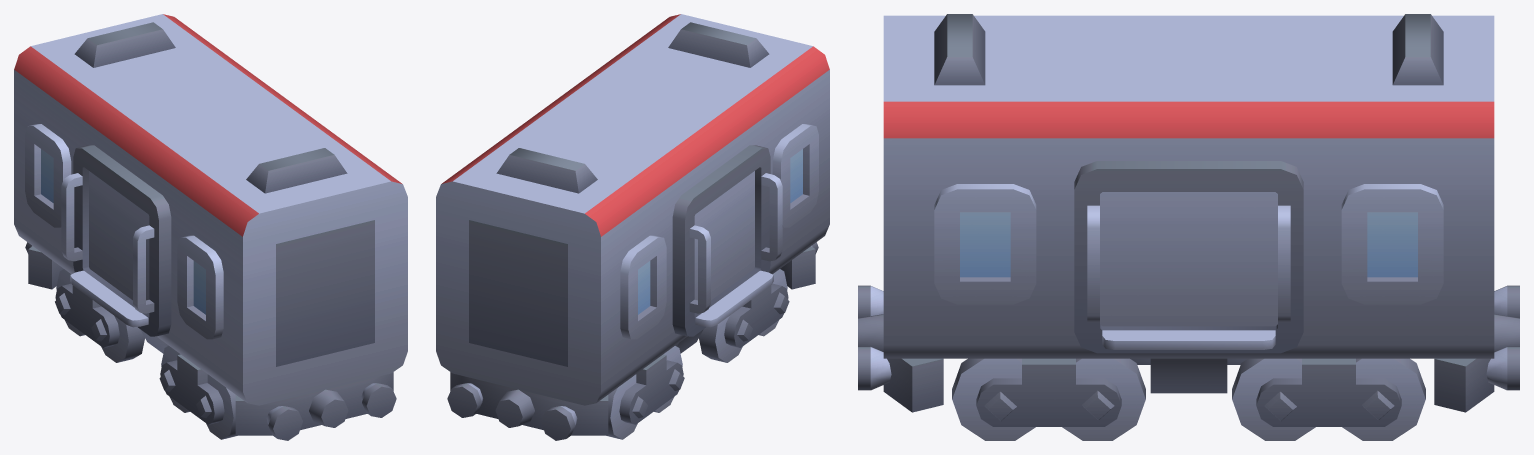
Rendered from train.glb.
3 renders of one model, left to right at view 1: azimuth 30°, elevation 25°; view 2: azimuth 150°, elevation 25°; view 3: azimuth 270°, elevation 25°, orthographic. The views are drawn at different scales.
Visible parts, largest first — view 1: train-electric-subway-c; view 2: train-electric-subway-c; view 3: train-electric-subway-c.
Boxes of the visible parts, x1=… form: train-electric-subway-c: x1=14, y1=14, x2=407, y2=440; train-electric-subway-c: x1=436, y1=14, x2=829, y2=440; train-electric-subway-c: x1=858, y1=14, x2=1519, y2=440.
Bounding box in the file's own units: 1.35 × 1.57 × 2.6.
1 material, 1 textured.
